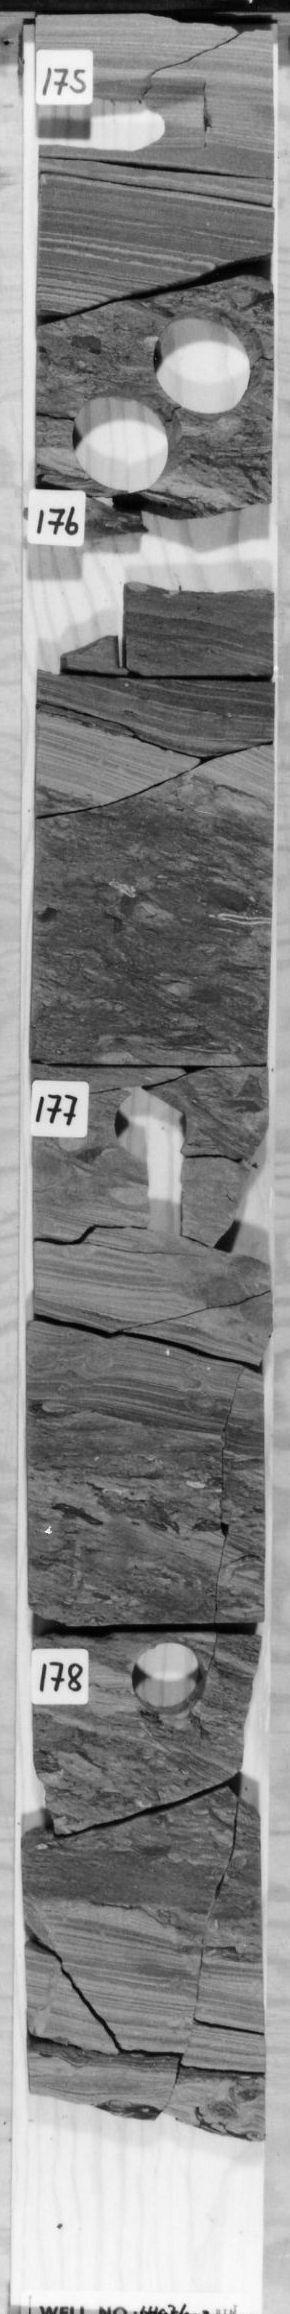hplug: (41, 75, 219, 159), (135, 502, 269, 601), (127, 1634, 212, 1719), (110, 1082, 193, 1156)
scal: (149, 303, 264, 421), (63, 394, 183, 497)
vplug: (56, 584, 141, 677), (141, 1158, 191, 1237)
